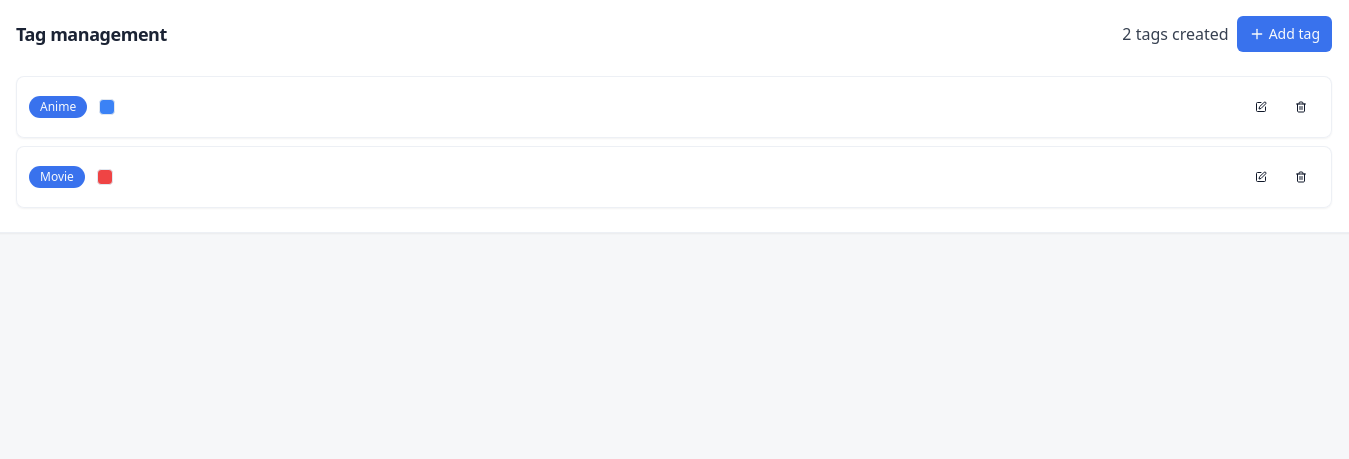
TagManager › shows duplicate edit errors inline instead of using browser alerts
Click the button named "Edit Movie". click: (1261, 177)
box: [1243,159,1279,195]
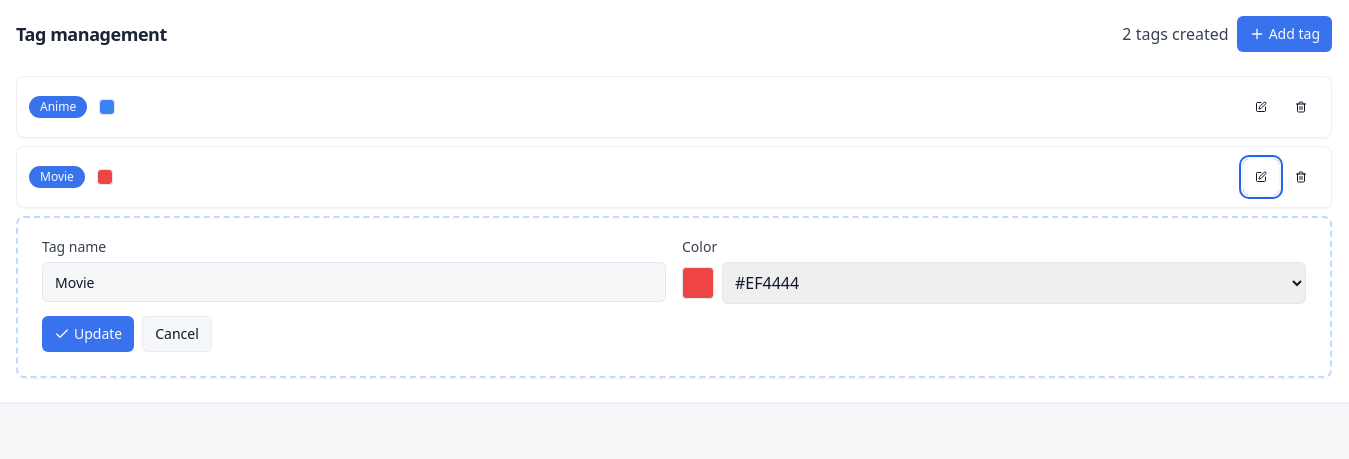
Replace the text in the field showing "Movie" with "Anime". click: (354, 282)
box: [42,262,666,302]
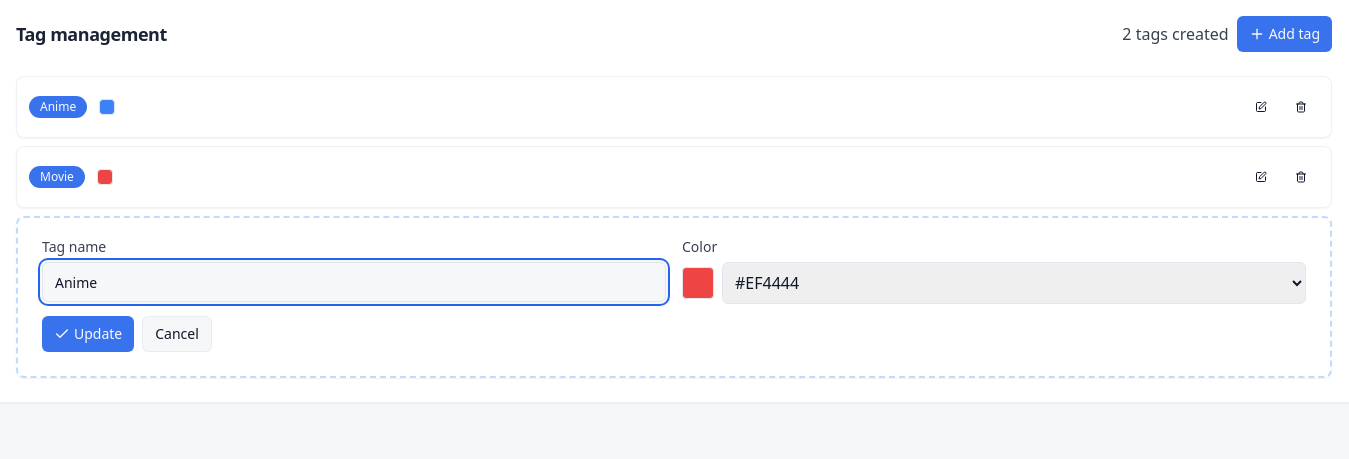
Click the button "Update". click: (88, 334)
box: [42,316,134,352]
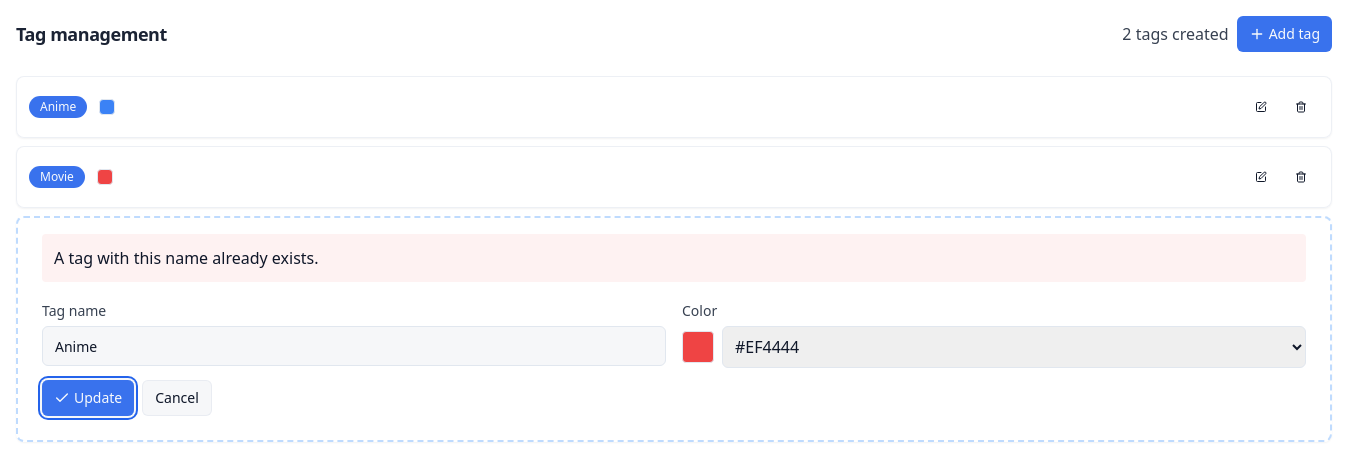
expect the message reads "A tag with this name already exists.": met, box [54,247,318,269]
